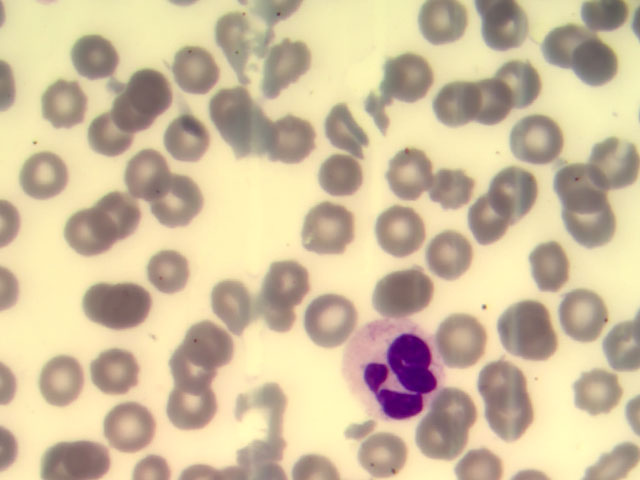RBC: (71, 31, 123, 84), (35, 76, 87, 129), (82, 111, 134, 164), (102, 93, 154, 146), (124, 65, 176, 118), (164, 44, 216, 97), (154, 114, 206, 167), (121, 145, 173, 198), (148, 171, 200, 224), (101, 189, 153, 242), (72, 211, 124, 264), (11, 151, 63, 204), (88, 275, 140, 328), (140, 248, 192, 301), (203, 272, 255, 325), (193, 310, 245, 363), (173, 337, 225, 390), (159, 391, 211, 444), (103, 394, 155, 447), (97, 350, 149, 403), (37, 356, 89, 409), (305, 288, 357, 341), (266, 257, 318, 310), (313, 203, 365, 256), (312, 152, 364, 205), (319, 104, 371, 157), (270, 115, 322, 168), (233, 111, 285, 164), (214, 93, 266, 146), (261, 39, 313, 92), (219, 14, 271, 67), (381, 52, 433, 105), (428, 78, 480, 131), (472, 74, 524, 127), (489, 57, 541, 110), (539, 21, 591, 74), (562, 38, 614, 91), (485, 10, 537, 63), (509, 110, 561, 163), (491, 164, 543, 217), (462, 203, 514, 256), (434, 172, 486, 225), (388, 150, 440, 203), (372, 206, 424, 259), (424, 227, 476, 280), (388, 265, 440, 318), (440, 311, 492, 364), (438, 370, 490, 423), (417, 420, 469, 473), (357, 427, 409, 480), (484, 393, 536, 446), (483, 353, 535, 406), (504, 296, 556, 349), (528, 237, 580, 290), (562, 288, 614, 341), (573, 367, 625, 420), (570, 202, 622, 255), (561, 157, 613, 210), (587, 131, 639, 184), (419, 1, 471, 53)
WBC: (344, 319, 441, 423)
